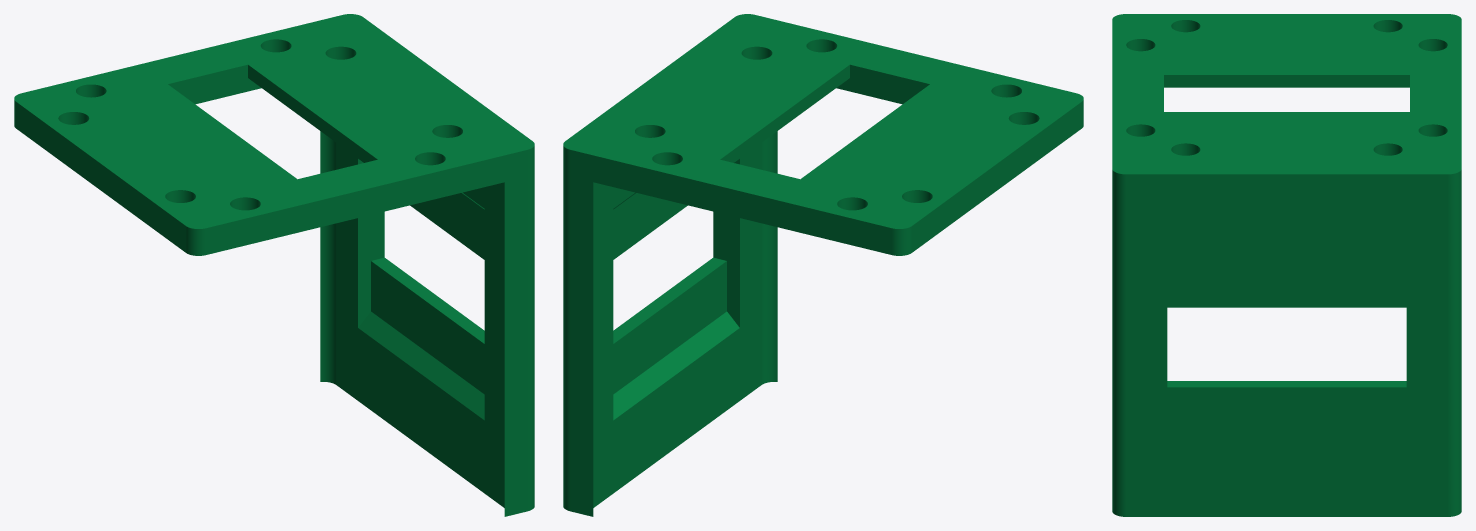
Rendered from V5_Outer Cover Open.obj.
The picture shows the model from 3 angles, left to right: view 1: azimuth 30°, elevation 25°; view 2: azimuth 150°, elevation 25°; view 3: azimuth 270°, elevation 25°; orthographic projection. The views are drawn at different scales.
Visible parts, largest first — view 1: Solid1:54; view 2: Solid1:54; view 3: Solid1:54.
Boxes of the visible parts, box(x1,y1,x2,y2) form: Solid1:54: box(14, 14, 534, 516); Solid1:54: box(563, 14, 1083, 516); Solid1:54: box(1112, 14, 1461, 516).
Bounding box in the file's own units: 54.03 × 53.8 × 49.75.
